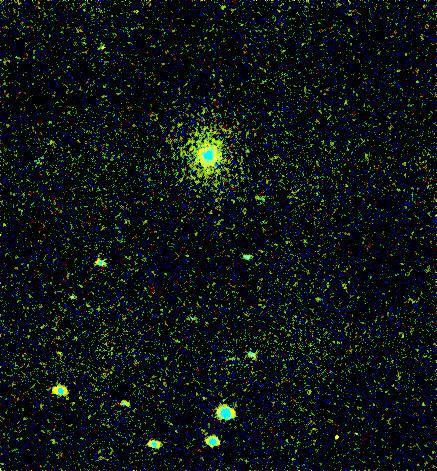star: (88, 32, 118, 62)
